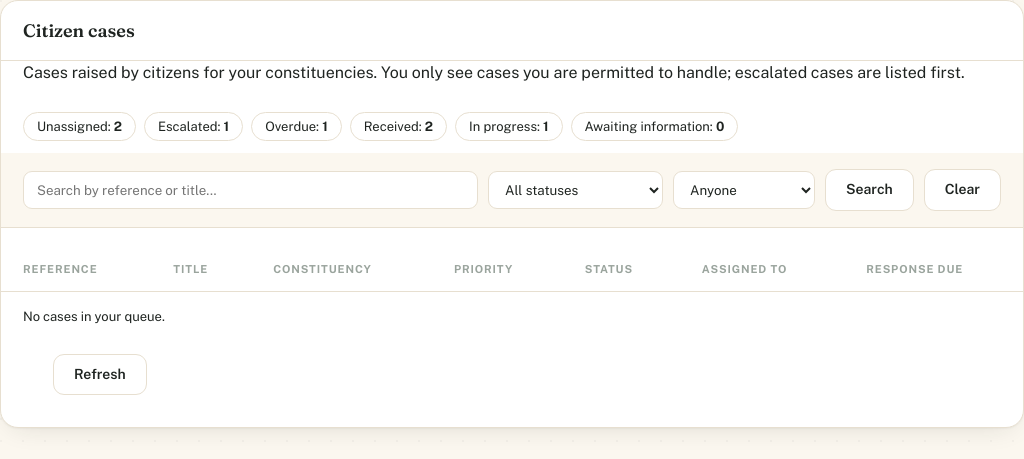
Case queue › says so when the queue is empty or nothing matches
The width and height of the screenshot is (1024, 459).
Check: the text "No cases in your queue." is shown, box [1,292,1023,342]
Select "Closed" in the dropdown named "Filter by status". click: (576, 190)
box: [488,171,663,209]
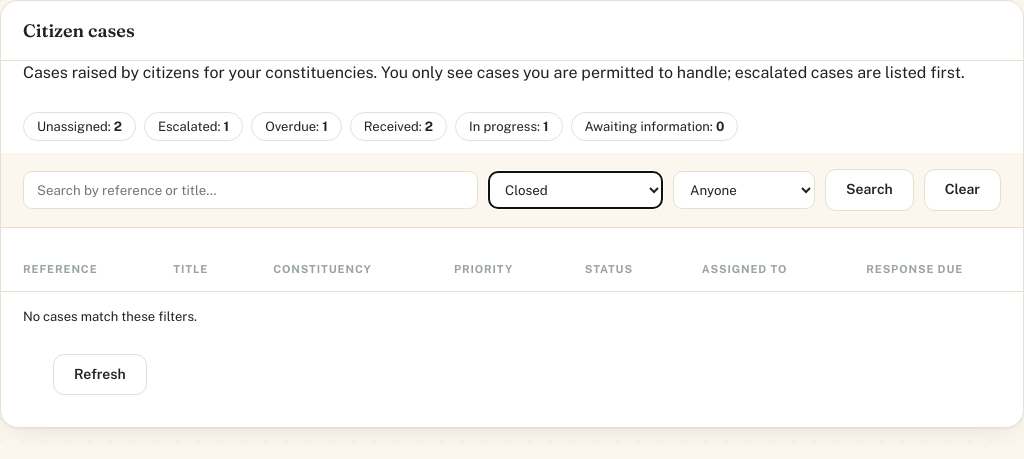
Check: the text "No cases match these filters." is shown, box [1,292,1023,342]
